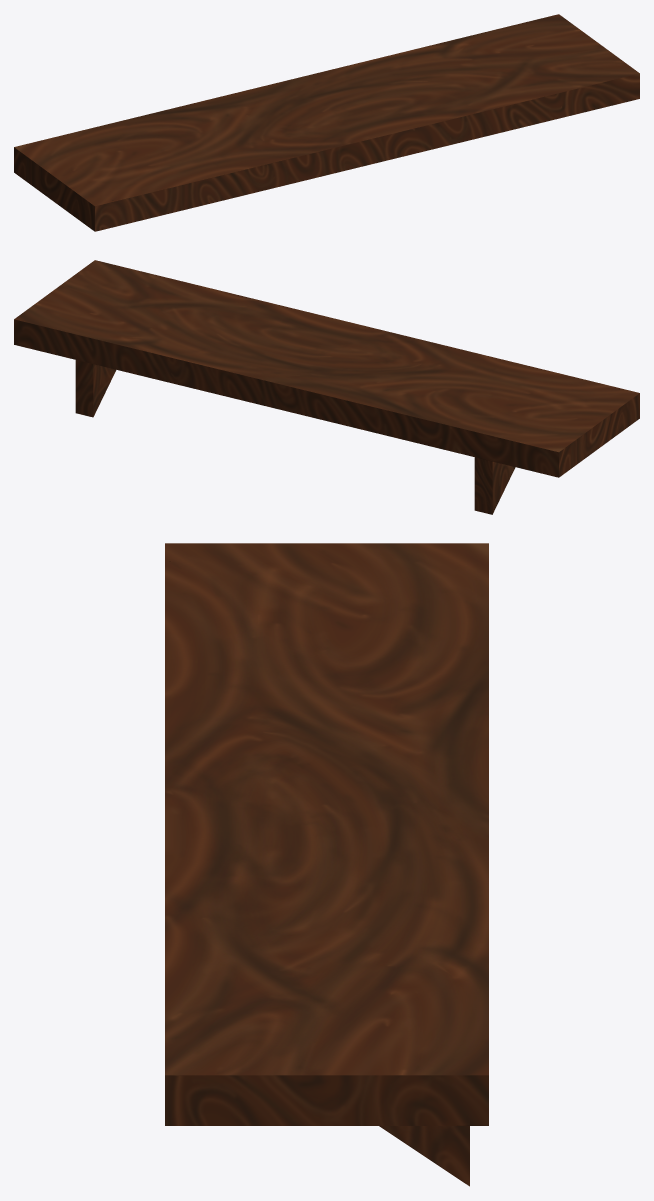
File: shelf.obj
3 views of the same model, one above another, from view 1: azimuth 30°, elevation 25°; view 2: azimuth 150°, elevation 25°; view 3: azimuth 270°, elevation 25° (orthographic). The views are drawn at different scales.
Parts seen in each view (by area): view 1: Estante.001_Cube.011; view 2: Estante.001_Cube.011; view 3: Estante.001_Cube.011.
Part boxes in pixels (left/top/right/bottom): Estante.001_Cube.011: left=14, top=14, right=639, bottom=231; Estante.001_Cube.011: left=14, top=260, right=639, bottom=514; Estante.001_Cube.011: left=165, top=543, right=488, bottom=1186.
Size of the model in its own units: 2.88 by 0.4216 by 0.7417.
